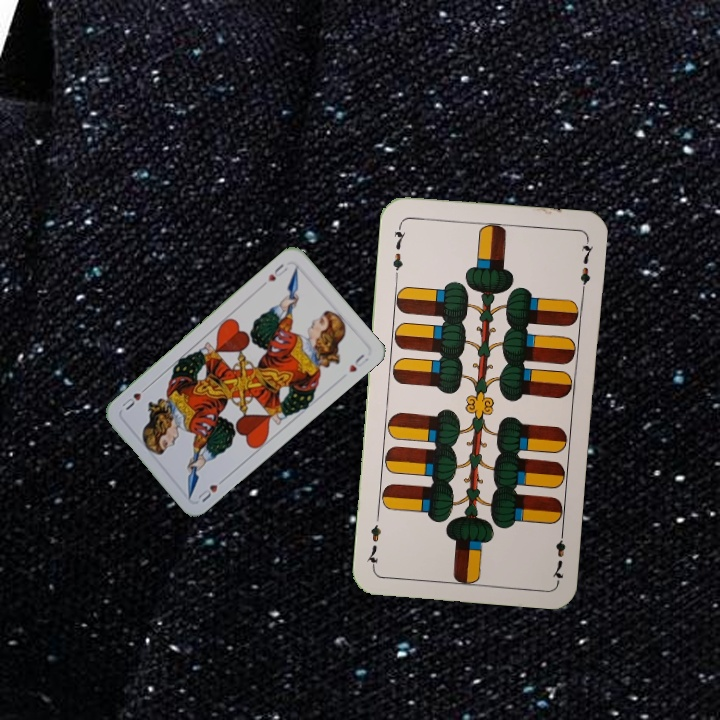E7: (388, 221, 409, 280), (548, 524, 569, 583)
HU: (194, 473, 228, 505), (263, 259, 291, 284)
